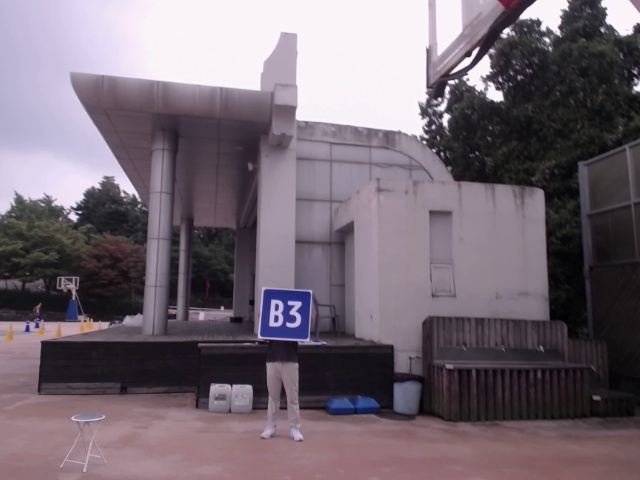delivery_b3: (260, 288, 313, 341)
